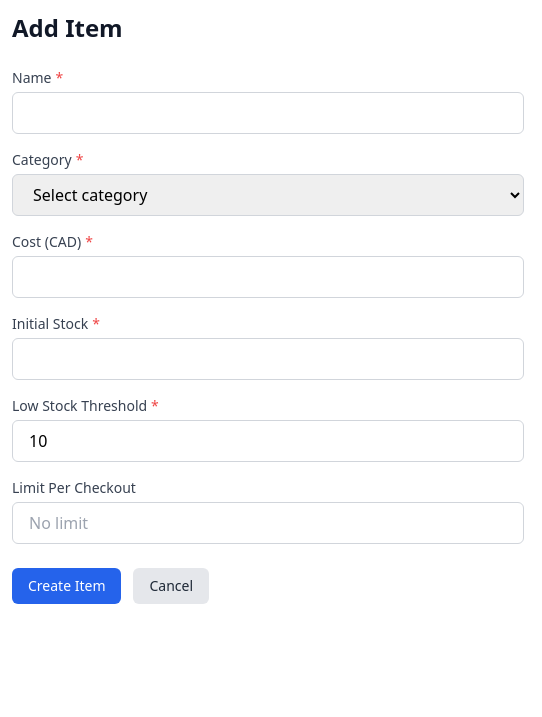
InventoryFormPage › shows validation errors on empty submit
This screenshot has width=542, height=717.
Click the button with test id "item-submit-button".
click(67, 586)  # box 12,568 -> 122,604
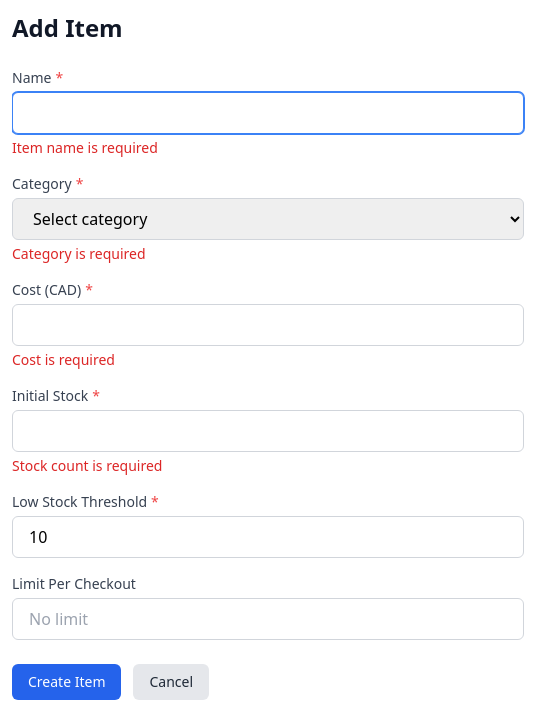
Now the text "Item name is required" is shown, box 12,138 -> 158,157
Now the text "Category is required" is shown, box 12,244 -> 146,263
Now the text "Cost is required" is shown, box 12,350 -> 115,369
